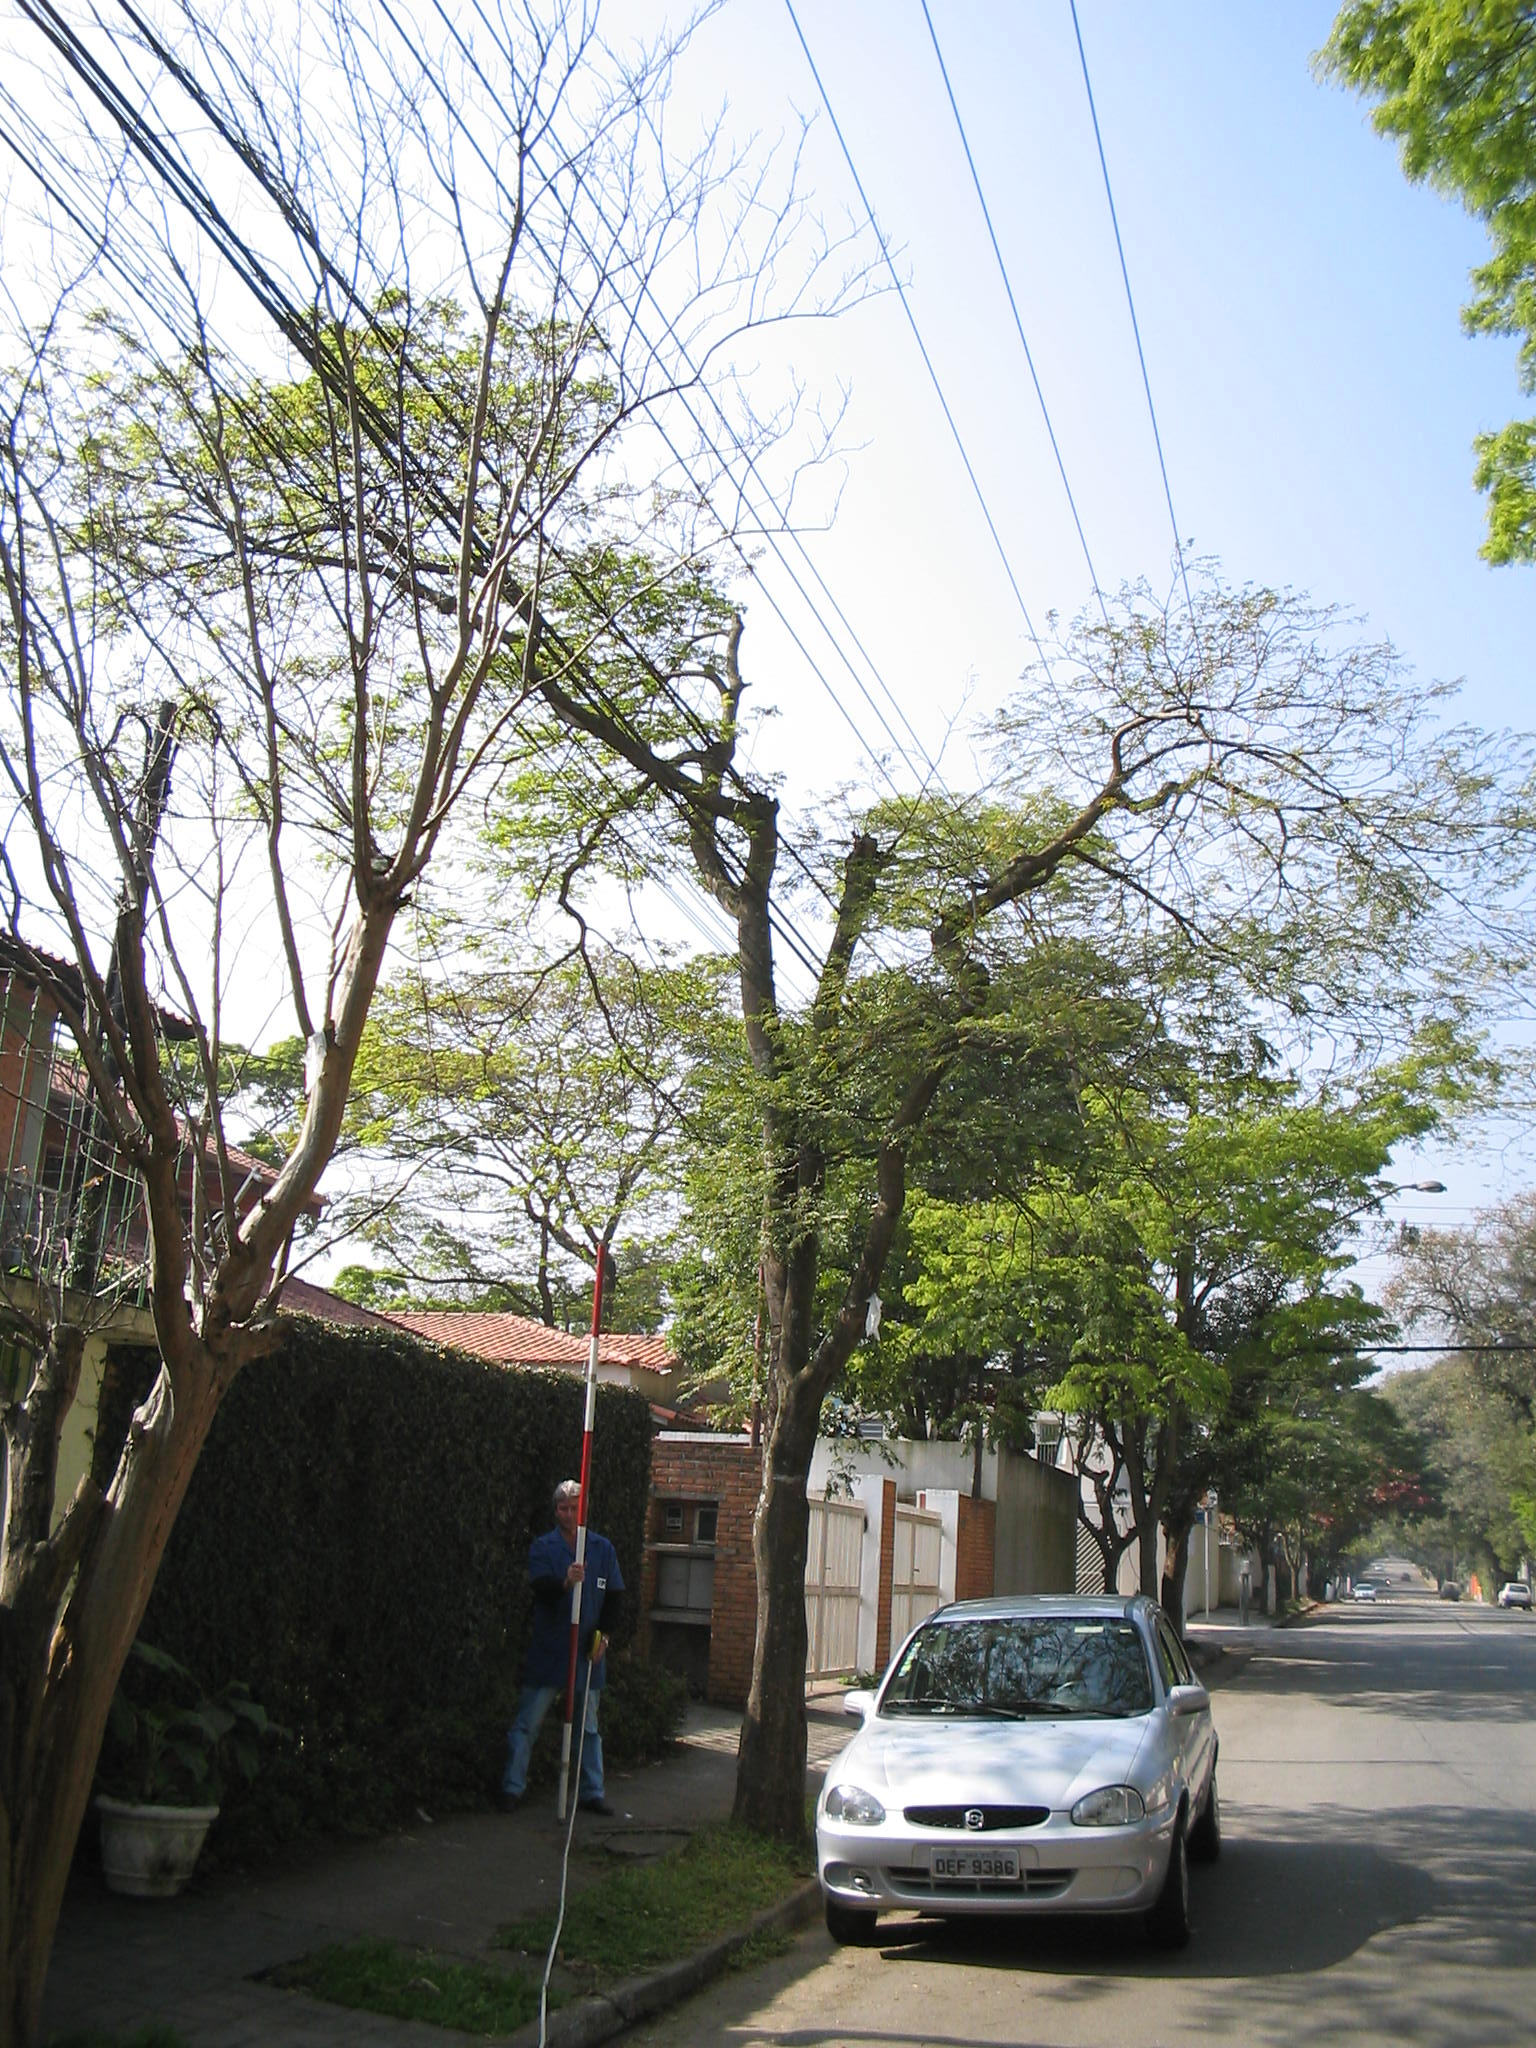stem: (691, 1397, 844, 1850)
stick: (526, 1245, 641, 1827)
tree: (94, 295, 1396, 1854), (10, 5, 808, 2048)
